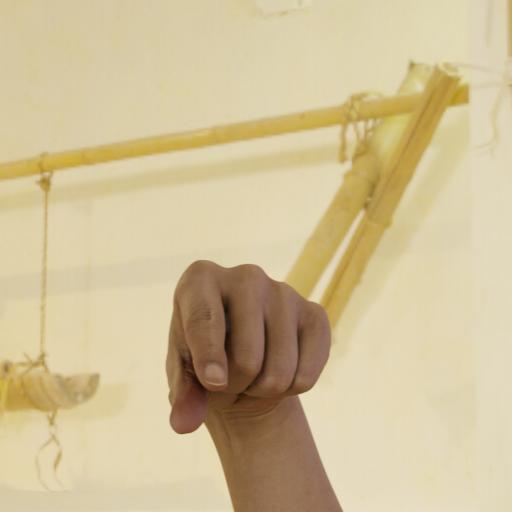Q: (143, 238, 351, 459)
